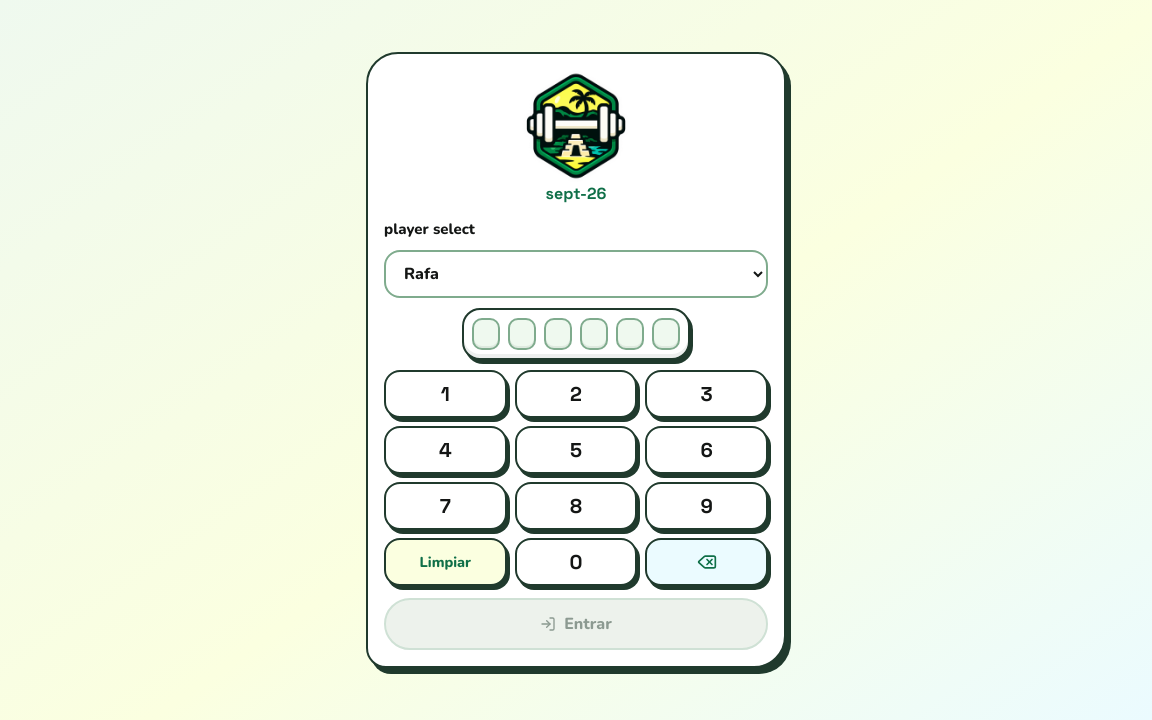
Test: login screen clears the PIN when the selected player changes
This screenshot has width=1152, height=720.
Click the button "1". click: (445, 394)
box: [384,370,507,418]
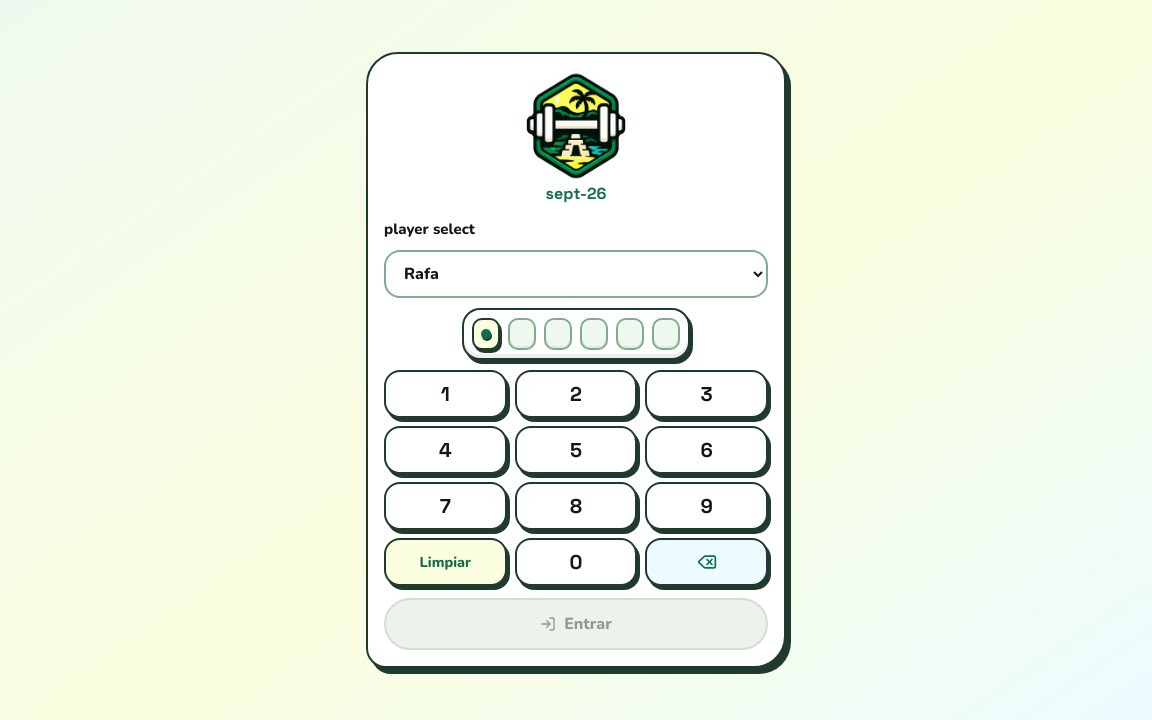
Click the button "2". click: (576, 394)
box: [515,370,637,418]
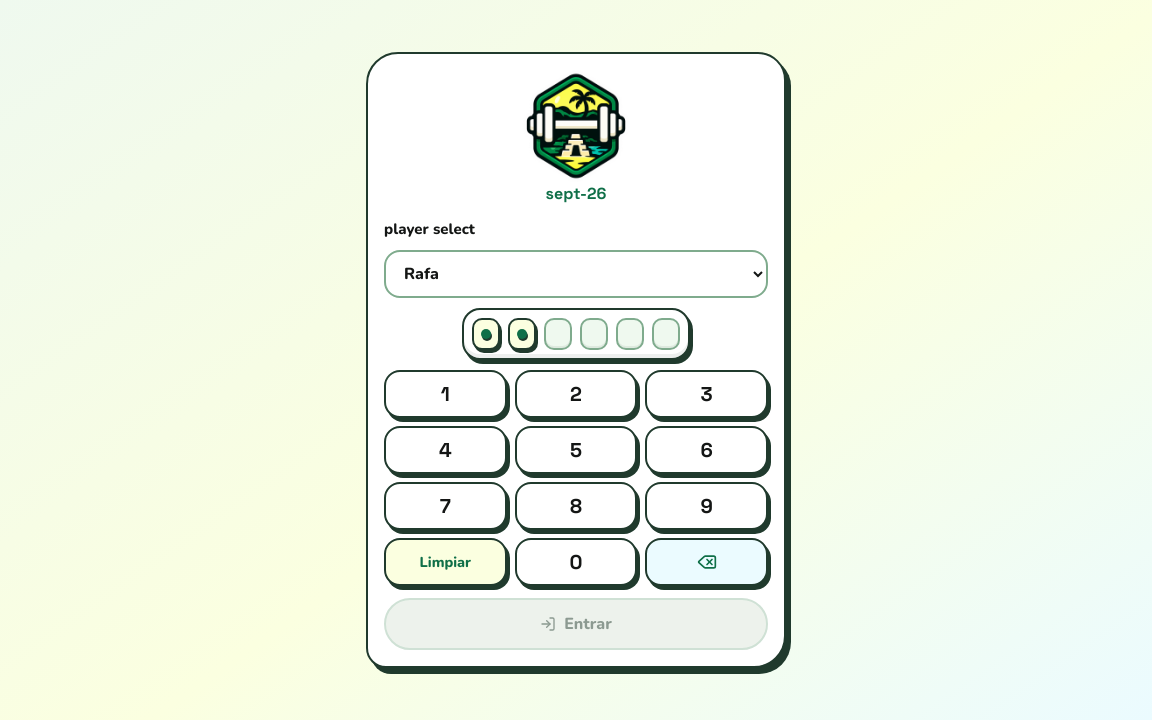
Click the button "3". click: (707, 394)
box: [645,370,768,418]
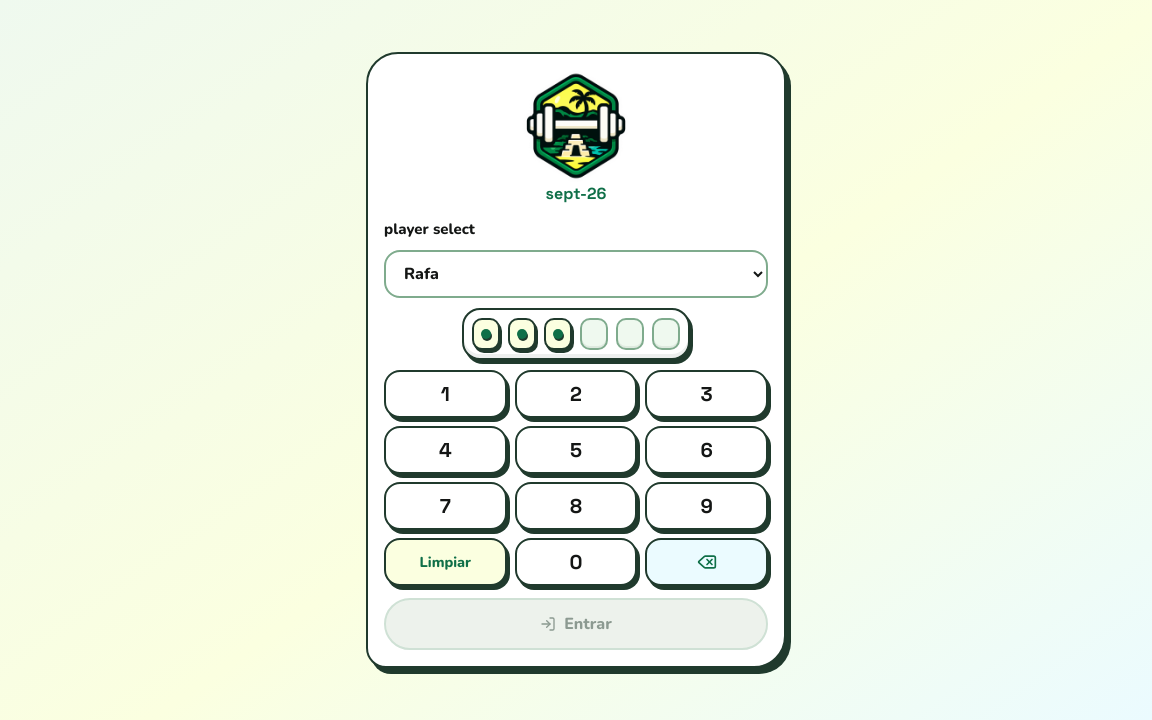
Expected: the element named "3 digitos ingresados" is shown, [462,308,690,360]
Select "Clari" in the dropdown labelled "player select". click: (576, 274)
box: [384,250,768,298]
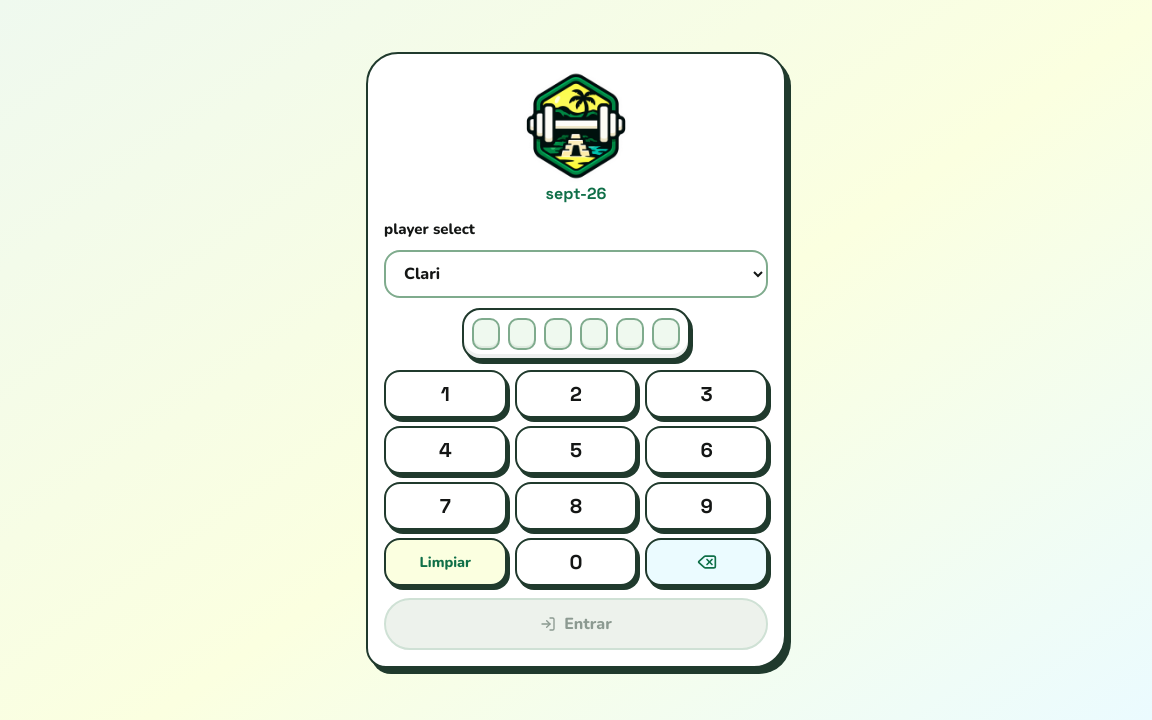
Expected: the element named "0 digitos ingresados" is shown, [462,308,690,360]
